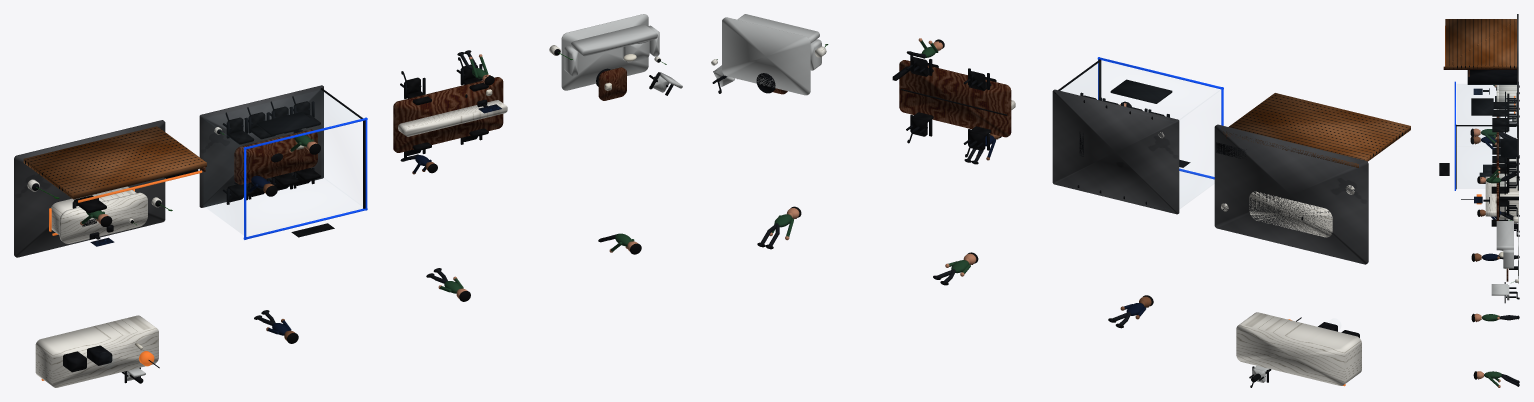
Rendered from SCENE_ASSET_GALLERY_HERO_V4_001.glb.
3 renders of one model, left to right at view 1: azimuth 30°, elevation 25°; view 2: azimuth 150°, elevation 25°; view 3: azimuth 270°, elevation 25°, orthographic. The views are drawn at different scales.
Visible parts, largest first — view 1: g0_back_wall_base, g4_pantry_island, g0_reception_floor, g1_room_floor, g2_desk_cluster_top, g3_blue_rug, g1_meeting_top, g0_curved_reception_desk_top, g2_central_planter, g3_sofa_back, g1_tv_wall_frame, g3_coffee_table_top (+1 smaller); view 2: g0_reception_floor, g1_room_floor, g0_back_wall_base, g4_pantry_island, g2_desk_cluster_top, g3_blue_rug, g0_curved_reception_desk_base, g1_tv_wall_frame, g3_sofa_back; view 3: g0_back_wall_base, g0_shelf_frame, g4_pantry_island, g3_sofa_back, g1_tv_wall_frame, g2_central_planter, g1_meeting_leg, g0_curved_reception_desk_base, g3_sofa_arm_r, g1_room_floor, g3_round_lounge_chair_back, g0_reception_floor (+17 smaller).
Part boxes in pixels (x1,y1,x2,y2): g0_back_wall_base: (23,126,206,199); g4_pantry_island: (35,315,158,387); g0_reception_floor: (14,120,165,257); g1_room_floor: (199,85,323,207); g2_desk_cluster_top: (393,77,503,152); g3_blue_rug: (561,14,648,90); g1_meeting_top: (234,129,317,184); g0_curved_reception_desk_top: (59,192,147,243); g2_central_planter: (398,100,507,136); g3_sofa_back: (571,24,657,56); g1_tv_wall_frame: (256,112,316,135); g3_coffee_table_top: (598,67,626,100); g0_reception_floor: (1214,124,1368,264); g1_room_floor: (1052,89,1179,214); g0_back_wall_base: (1223,93,1410,167); g4_pantry_island: (1236,312,1361,385); g2_desk_cluster_top: (899,60,1011,137); g3_blue_rug: (722,17,810,95); g0_curved_reception_desk_base: (1249,191,1332,237); g1_tv_wall_frame: (1110,79,1172,103); g3_sofa_back: (737,14,819,42); g0_back_wall_base: (1445,19,1516,68); g0_shelf_frame: (1467,70,1516,84); g4_pantry_island: (1495,159,1518,219); g3_sofa_back: (1496,221,1513,250); g1_tv_wall_frame: (1471,98,1493,115); g2_central_planter: (1485,176,1496,216); g1_meeting_leg: (1500,138,1517,157); g0_curved_reception_desk_base: (1499,85,1516,111); g3_sofa_arm_r: (1503,249,1513,268); g1_room_floor: (1517,81,1518,190); g3_round_lounge_chair_back: (1491,284,1507,295); g0_reception_floor: (1517,14,1518,137).
Size of the model in its own units: 12.11 by 4.45 by 1.8.
24 materials, 24 textured.
